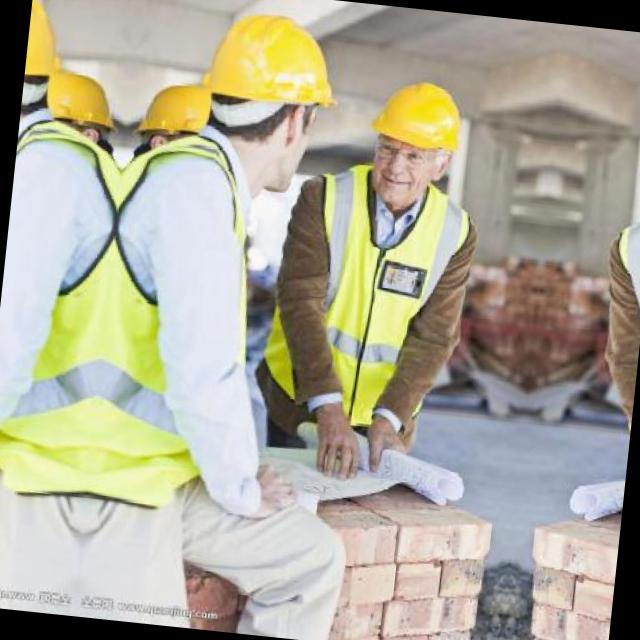helmet: (194, 4, 340, 198), (358, 75, 464, 218), (132, 77, 238, 182), (15, 65, 120, 171), (14, 0, 65, 170)
